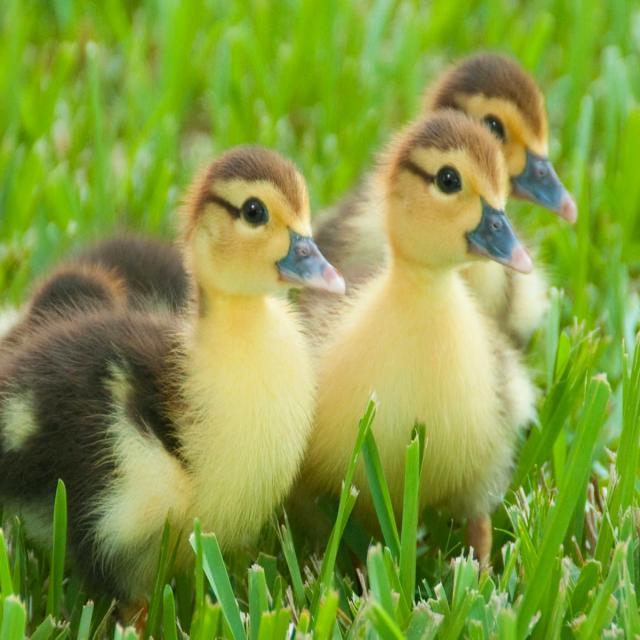duck: (0, 146, 345, 599), (295, 109, 534, 566), (429, 53, 577, 222)
